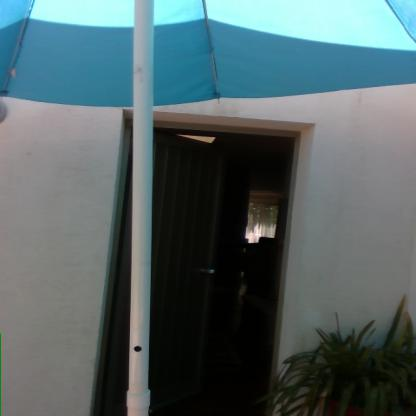open: (126, 98, 330, 416)
